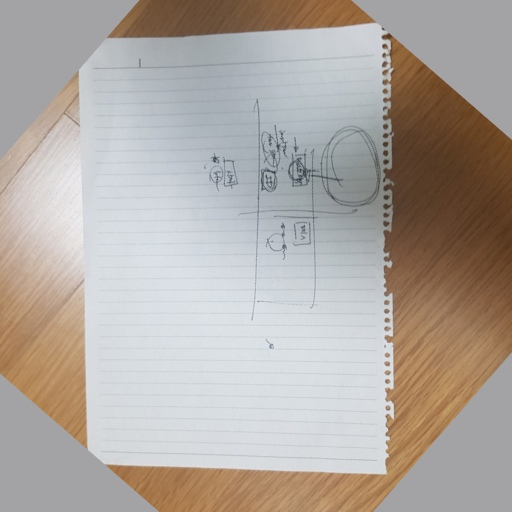Paper_2: (72, 21, 408, 487)
